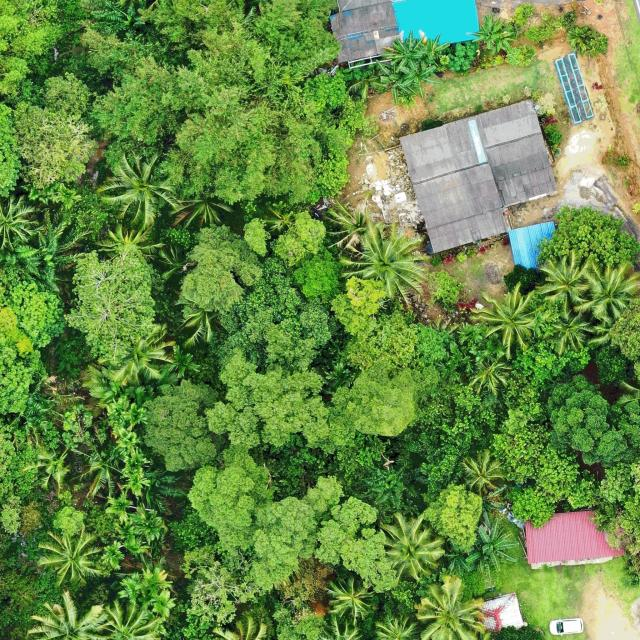Tree: (212, 254, 341, 381), (63, 247, 160, 368), (10, 72, 99, 196), (188, 443, 280, 557), (178, 220, 266, 315), (141, 377, 227, 473), (338, 223, 428, 304), (95, 154, 178, 237), (536, 204, 637, 268), (471, 281, 542, 359), (377, 509, 447, 584), (414, 575, 486, 640), (422, 482, 484, 554), (23, 590, 107, 640), (36, 524, 102, 586), (577, 257, 640, 321), (465, 515, 521, 581), (535, 249, 592, 313), (160, 187, 237, 228), (323, 571, 381, 624), (91, 596, 160, 640), (546, 299, 598, 355), (292, 250, 342, 298), (467, 12, 517, 56), (0, 192, 39, 248), (459, 449, 506, 494), (381, 29, 428, 73), (374, 609, 422, 640), (319, 614, 365, 640), (504, 44, 536, 68)
